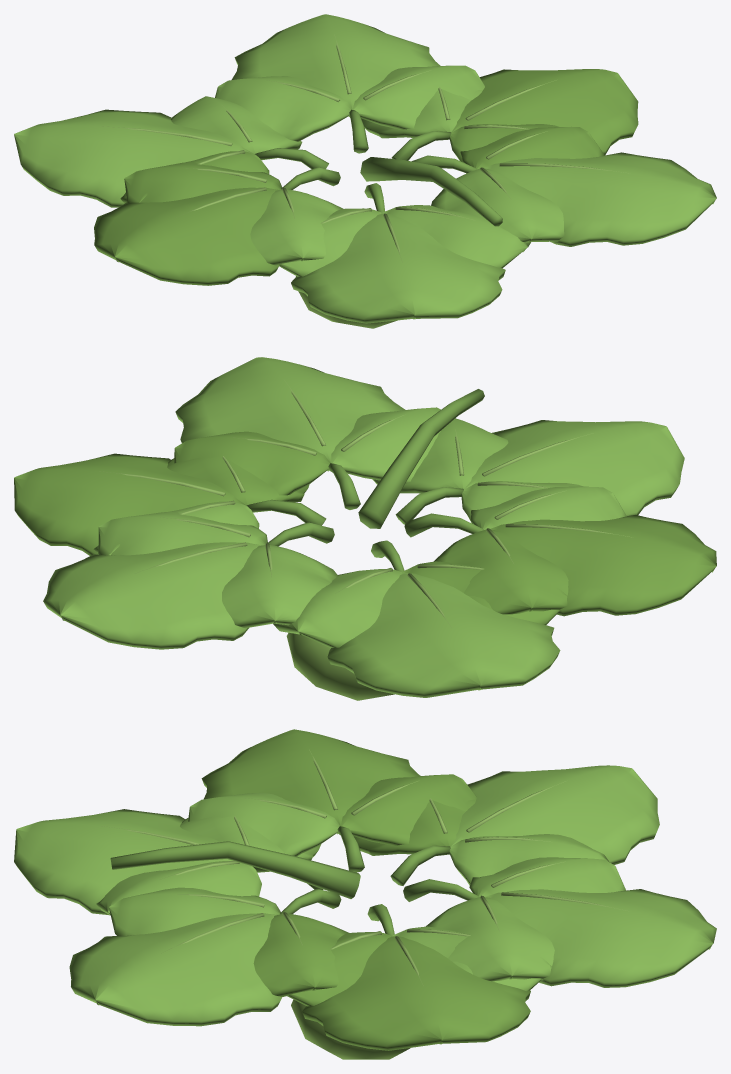
File: strawberry_plant_body.glb
3 renders of one model, top to bottom at view 1: azimuth 30°, elevation 25°; view 2: azimuth 150°, elevation 25°; view 3: azimuth 270°, elevation 25°, orthographic. The views are drawn at different scales.
Parts seen in each view (by area): view 1: Strawberry Body | Rosette | garden green, Strawberry Body | Rosette | shaded green, Strawberry Body | Runner | soft green, Strawberry Body | Leaf | quiet midrib; view 2: Strawberry Body | Rosette | garden green, Strawberry Body | Rosette | shaded green, Strawberry Body | Runner | soft green, Strawberry Body | Leaf | quiet midrib, Strawberry Body | Crown | young green; view 3: Strawberry Body | Rosette | garden green, Strawberry Body | Rosette | shaded green, Strawberry Body | Runner | soft green, Strawberry Body | Leaf | quiet midrib, Strawberry Body | Crown | young green.
Boxes of the visible parts, left/top/right/bottom form: Strawberry Body | Rosette | garden green: left=14, top=14, right=716, bottom=323; Strawberry Body | Rosette | shaded green: left=94, top=69, right=638, bottom=285; Strawberry Body | Runner | soft green: left=255, top=109, right=502, bottom=226; Strawberry Body | Leaf | quiet midrib: left=102, top=34, right=628, bottom=262; Strawberry Body | Rosette | garden green: left=43, top=357, right=684, bottom=697; Strawberry Body | Rosette | shaded green: left=14, top=431, right=716, bottom=624; Strawberry Body | Runner | soft green: left=246, top=389, right=484, bottom=572; Strawberry Body | Leaf | quiet midrib: left=99, top=380, right=631, bottom=627; Strawberry Body | Crown | young green: left=286, top=632, right=394, bottom=700; Strawberry Body | Rosette | garden green: left=14, top=765, right=716, bottom=1026; Strawberry Body | Rosette | shaded green: left=201, top=729, right=530, bottom=1050; Strawberry Body | Runner | soft green: left=110, top=826, right=479, bottom=935; Strawberry Body | Leaf | quiet midrib: left=101, top=749, right=628, bottom=985; Strawberry Body | Crown | young green: left=291, top=999, right=410, bottom=1059.
Size of the model in its own units: 1.02 by 0.3376 by 1.01.
